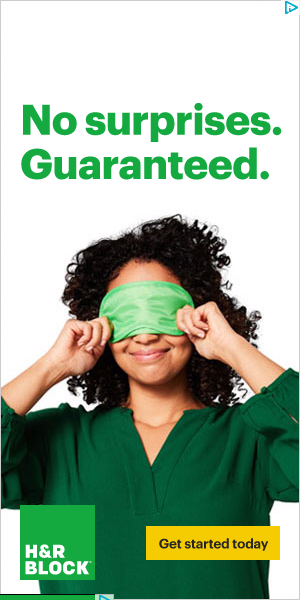fake_button: (8, 493, 105, 588), (136, 513, 289, 571)
